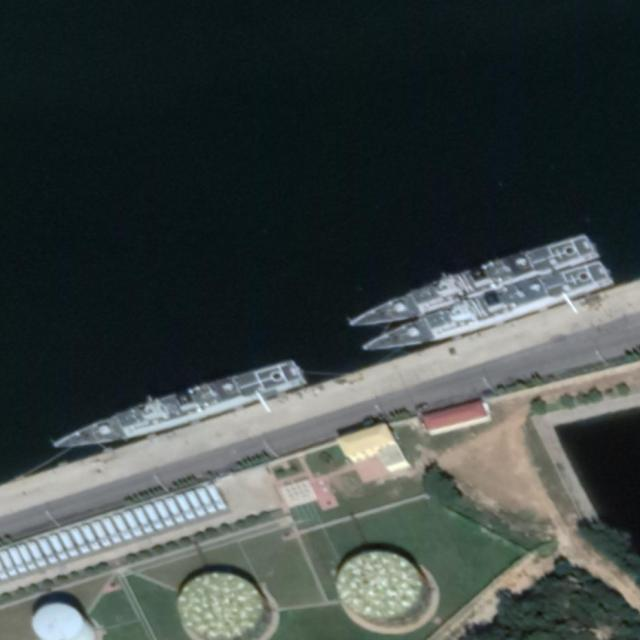Auxiliary Ships: (48, 356, 303, 461), (359, 258, 613, 363), (345, 231, 602, 332)
